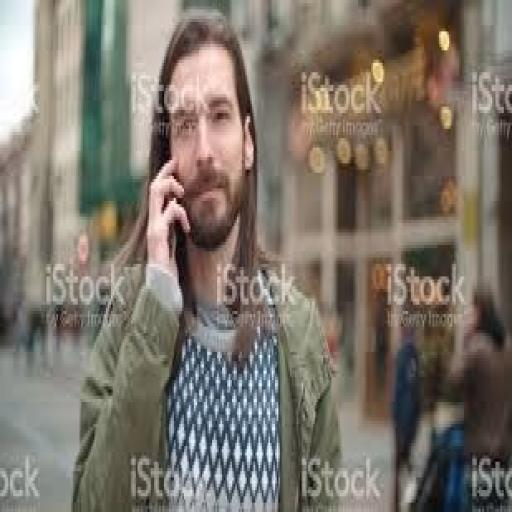calling: (70, 9, 343, 509)
